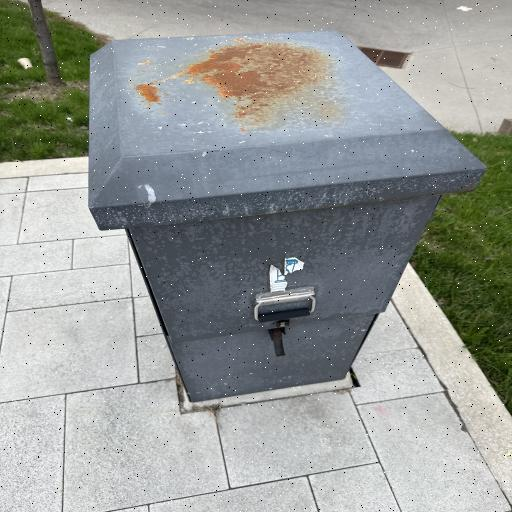Electrical Box: (90, 30, 487, 402)
